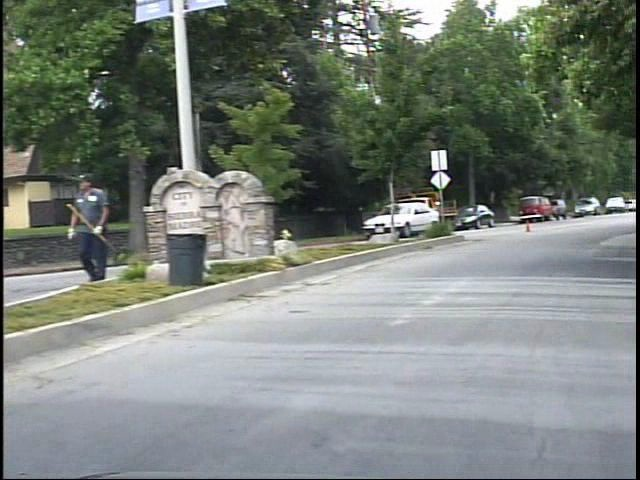person: (67, 167, 123, 289)
